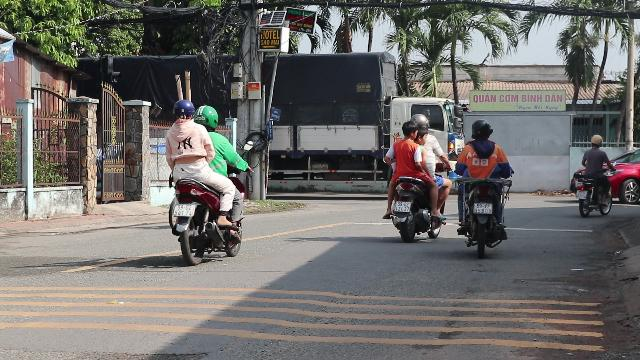helmet: (194, 105, 218, 132), (171, 98, 195, 122), (470, 118, 492, 140), (410, 114, 428, 134)
licenseplate: (173, 204, 194, 216), (474, 202, 492, 213), (395, 202, 411, 212)
motorcyclist: (162, 98, 248, 262), (380, 113, 450, 241), (451, 118, 513, 255)
nohelmet: (400, 120, 418, 140)
